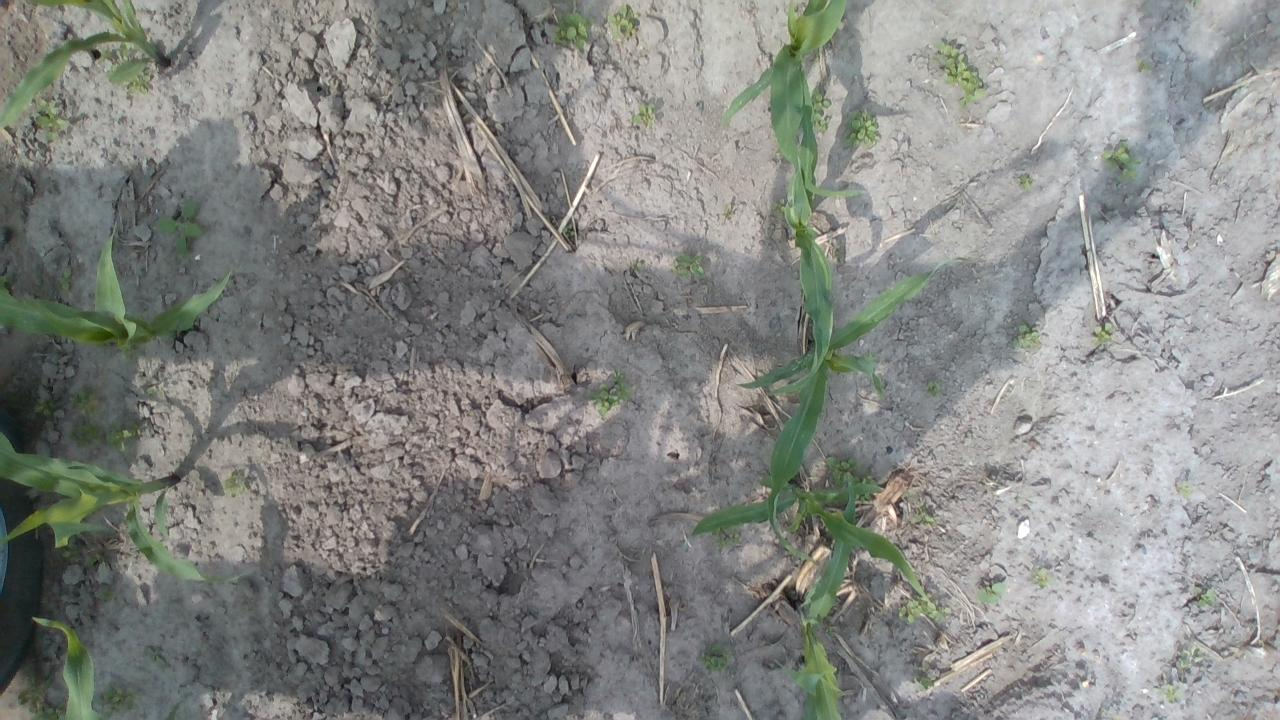Maize: (736, 254, 960, 561), (0, 428, 242, 586), (686, 472, 944, 619), (0, 220, 234, 354), (720, 0, 870, 201), (0, 0, 169, 129), (771, 470, 857, 720), (766, 160, 834, 398), (31, 613, 96, 720)
Weeds: (932, 40, 986, 108), (160, 198, 212, 256), (15, 674, 65, 720), (590, 369, 632, 416), (34, 92, 70, 144), (96, 684, 144, 720), (550, 9, 590, 50), (1102, 142, 1142, 182), (826, 454, 874, 486), (844, 109, 880, 147), (898, 596, 948, 622), (105, 420, 143, 454), (69, 381, 104, 416), (697, 638, 733, 672), (68, 419, 104, 452), (608, 3, 640, 36), (97, 39, 133, 68), (808, 87, 831, 132), (1010, 320, 1042, 350), (674, 252, 708, 280), (713, 523, 743, 551), (124, 68, 154, 94), (144, 645, 170, 670), (630, 103, 658, 126), (84, 552, 110, 576), (222, 472, 250, 494), (1177, 646, 1202, 670), (62, 534, 82, 564), (978, 582, 1004, 604), (1196, 587, 1218, 610), (1092, 321, 1113, 345), (913, 505, 935, 526), (33, 398, 57, 417), (58, 270, 73, 292), (1032, 567, 1049, 586), (124, 346, 144, 361), (1166, 686, 1181, 705), (917, 674, 937, 688), (926, 379, 942, 396), (1017, 174, 1033, 190), (771, 197, 787, 213), (1135, 57, 1152, 72), (144, 386, 164, 398), (95, 590, 114, 602), (1177, 483, 1190, 500), (562, 223, 576, 236), (723, 204, 735, 217), (832, 253, 843, 263), (825, 624, 834, 636), (1190, 0, 1202, 8)
